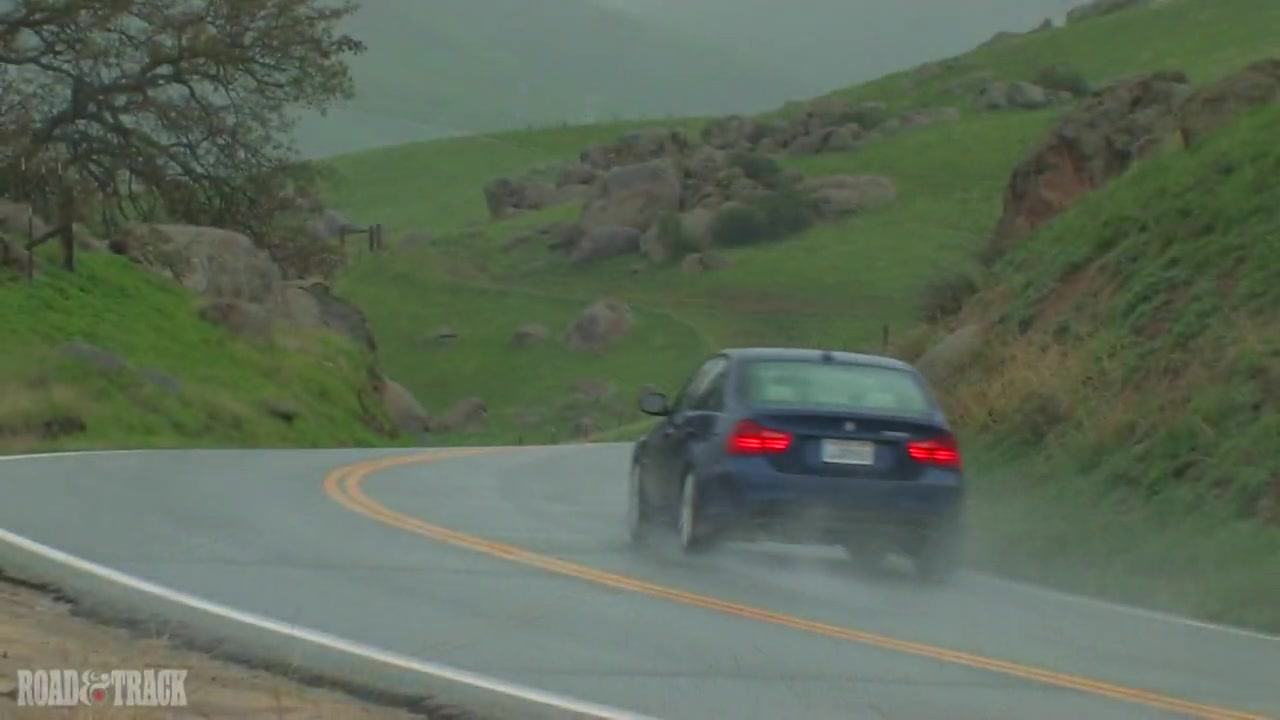car: (620, 350, 970, 580)
